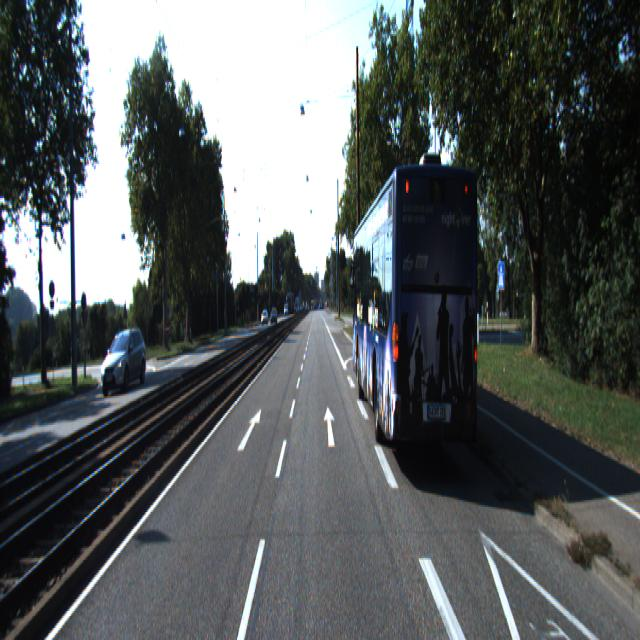Car: (352, 153, 482, 482), (100, 328, 148, 396)
